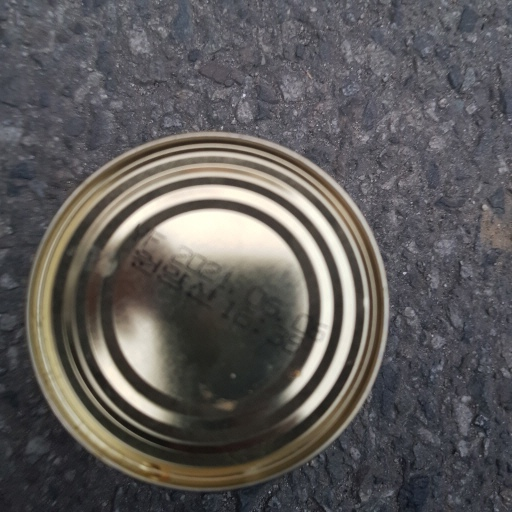Metal_1: (23, 131, 392, 485)
